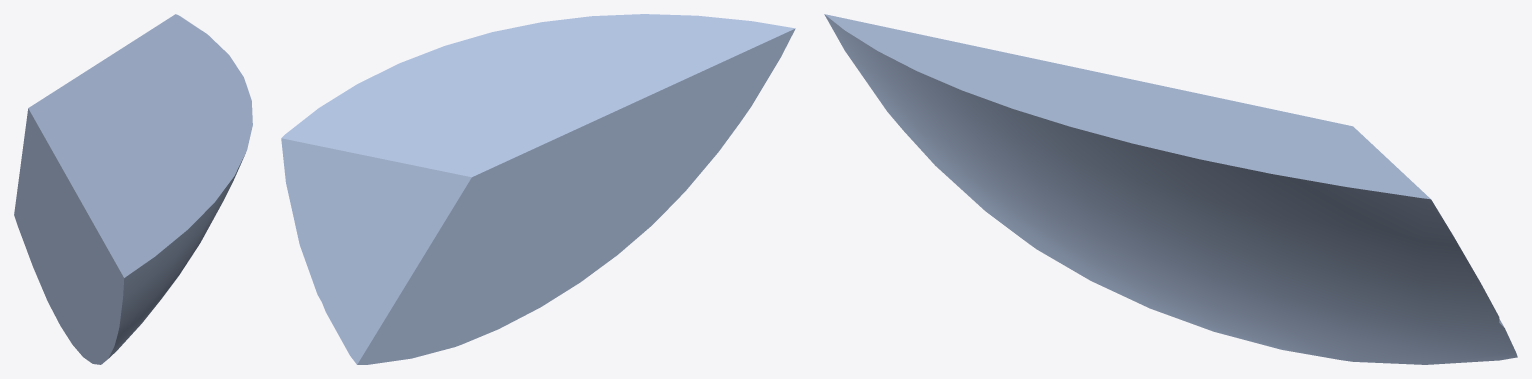
The model's file is Ball3_4.fbx.
The picture shows the model from 3 angles, left to right: view 1: azimuth 30°, elevation 25°; view 2: azimuth 150°, elevation 25°; view 3: azimuth 270°, elevation 25°; orthographic projection. The views are drawn at different scales.
Visible parts, largest first — view 1: Cube_cell.053; view 2: Cube_cell.053; view 3: Cube_cell.053.
Boxes of the visible parts, x1,y1,x2,y2 form: Cube_cell.053: [14, 14, 252, 364]; Cube_cell.053: [281, 14, 795, 364]; Cube_cell.053: [824, 14, 1517, 364].
Bounding box in the file's own units: 43.99 × 32.65 × 72.91.
